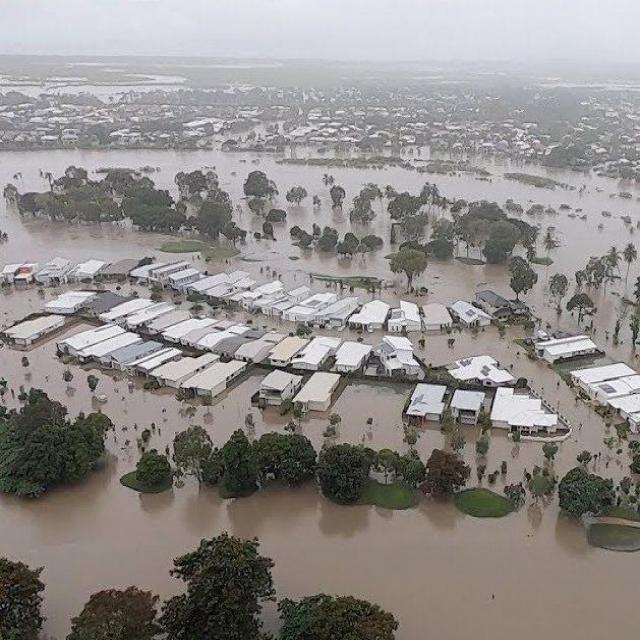flood: (0, 321, 640, 640), (0, 151, 515, 306), (330, 168, 640, 330), (411, 325, 631, 490), (330, 380, 413, 452), (587, 291, 640, 370), (0, 286, 59, 330), (414, 425, 450, 460), (300, 413, 329, 450), (610, 261, 627, 292), (630, 260, 640, 290)
house: (64, 324, 192, 369), (569, 358, 639, 417), (173, 354, 249, 406), (494, 392, 568, 437), (262, 282, 340, 324), (532, 329, 604, 366), (168, 316, 241, 352), (440, 353, 514, 387), (400, 380, 450, 426), (373, 331, 424, 375), (0, 313, 65, 347), (185, 272, 252, 304), (474, 282, 526, 320), (294, 367, 342, 408), (256, 367, 302, 409), (132, 262, 196, 290), (292, 334, 336, 372), (348, 296, 396, 330), (41, 259, 106, 284), (334, 338, 374, 378), (238, 329, 286, 362), (46, 289, 96, 317), (453, 386, 488, 424), (565, 288, 599, 326), (270, 334, 305, 369), (450, 298, 484, 330), (0, 262, 37, 286)
